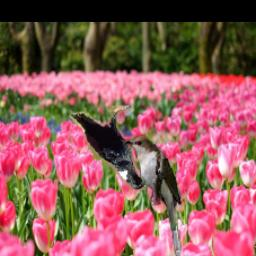Crow: (69, 107, 150, 191)
Cuckoo: (123, 134, 183, 256)
